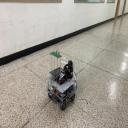cart: (45, 71, 78, 111)
